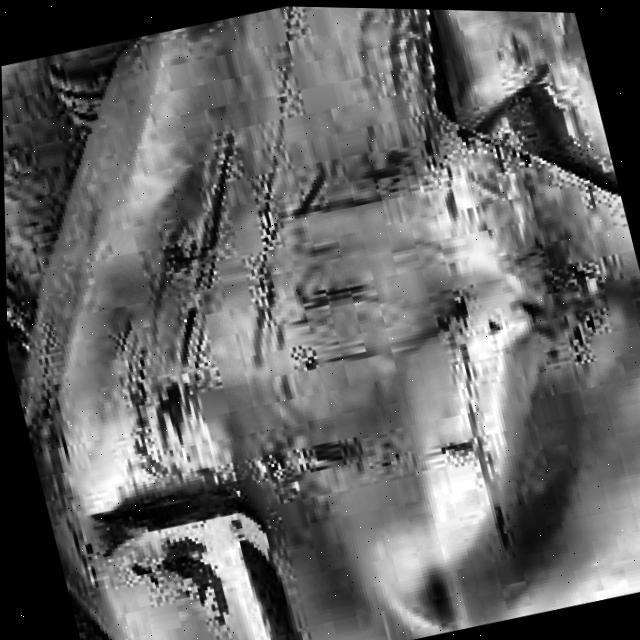bumper_dent: (310, 289, 640, 640)
